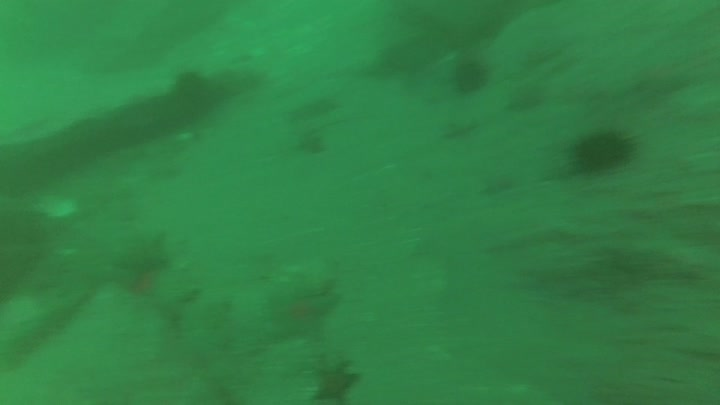echinus: (567, 124, 644, 177), (452, 57, 492, 95)
starfish: (262, 270, 347, 346), (309, 359, 364, 405)
